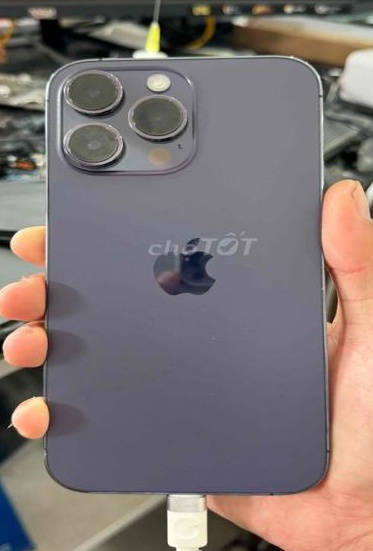scratch: (92, 63, 137, 117), (96, 115, 151, 149)
